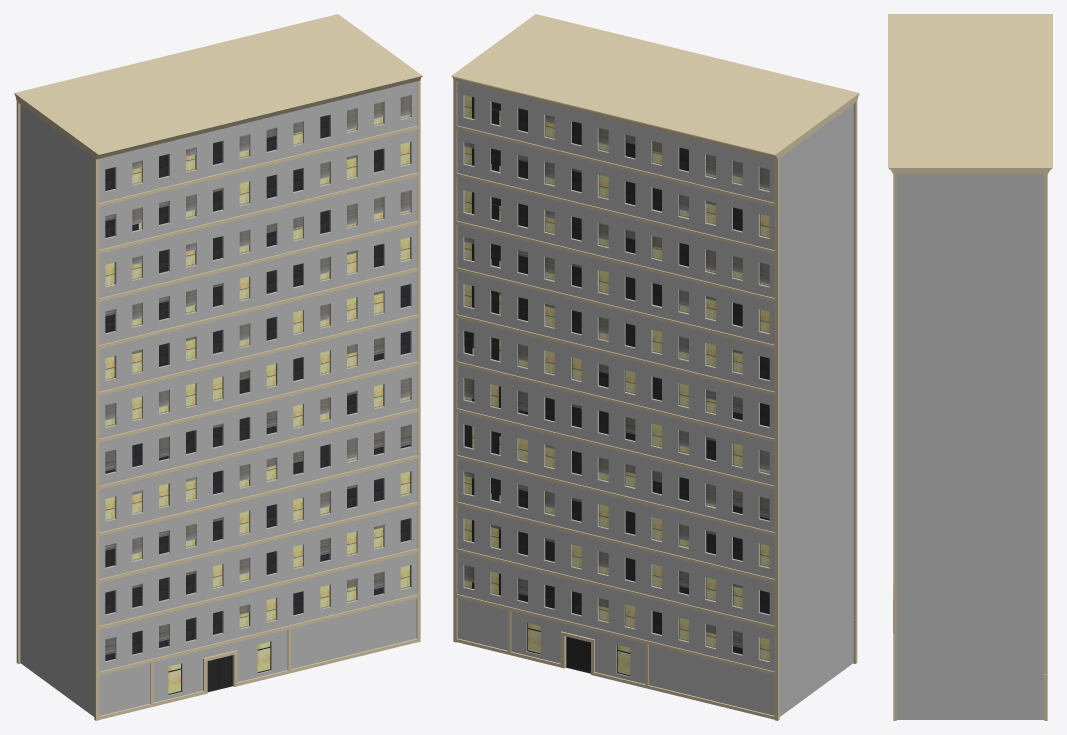
Rendered from Bloc_029F.fbx.
The picture shows the model from 3 angles, left to right: view 1: azimuth 30°, elevation 25°; view 2: azimuth 150°, elevation 25°; view 3: azimuth 270°, elevation 25°; orthographic projection. The views are drawn at different scales.
Parts seen in each view (by area): view 1: Bloc_29F; view 2: Bloc_29F; view 3: Bloc_29F.
Boxes of the visible parts, x1,y1,x2,y2 form: Bloc_29F: (14,14,422,720); Bloc_29F: (451,14,859,720); Bloc_29F: (888,14,1052,720).
Bounding box in the file's own units: 982 × 3636 × 2177.
